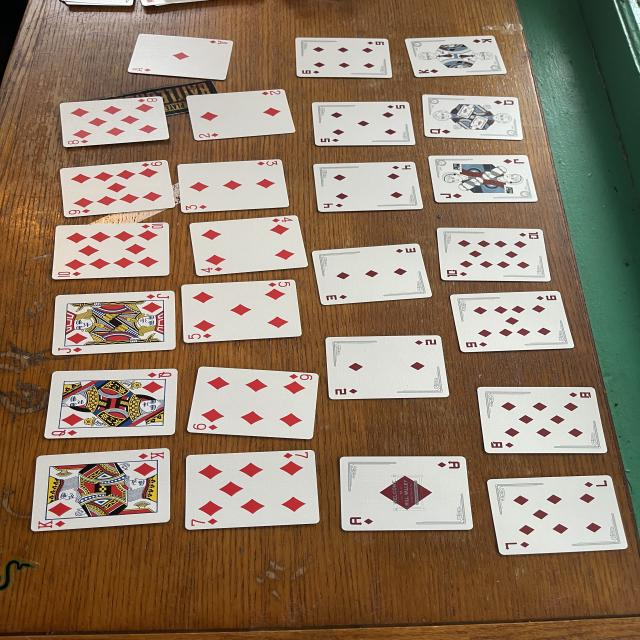10 of diamonds: (52, 222, 170, 279), (437, 228, 550, 281)
2 of diamonds: (325, 335, 448, 400), (187, 89, 295, 140)
3 of diamonds: (313, 244, 432, 305), (177, 159, 288, 212)
4 of diamonds: (190, 215, 308, 276), (313, 162, 423, 211)
5 of diamonds: (182, 280, 302, 342), (312, 101, 415, 146)
6 of diamonds: (187, 366, 318, 439), (295, 38, 392, 78)
7 of diamonds: (487, 475, 628, 555), (185, 450, 320, 530)
8 of diamonds: (477, 388, 607, 454), (60, 98, 170, 148)
9 of diamonds: (450, 291, 573, 352), (60, 160, 175, 218)
Ace of diamonds: (340, 456, 473, 531), (128, 34, 233, 80)
Jack of diamonds: (52, 291, 175, 355), (428, 155, 537, 202)
King of diamonds: (32, 449, 170, 531), (405, 35, 507, 78)
Queen of diamonds: (45, 369, 178, 439), (422, 95, 523, 140)
